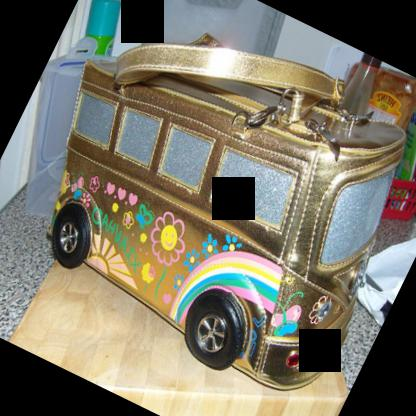handbag: (44, 31, 409, 391)
